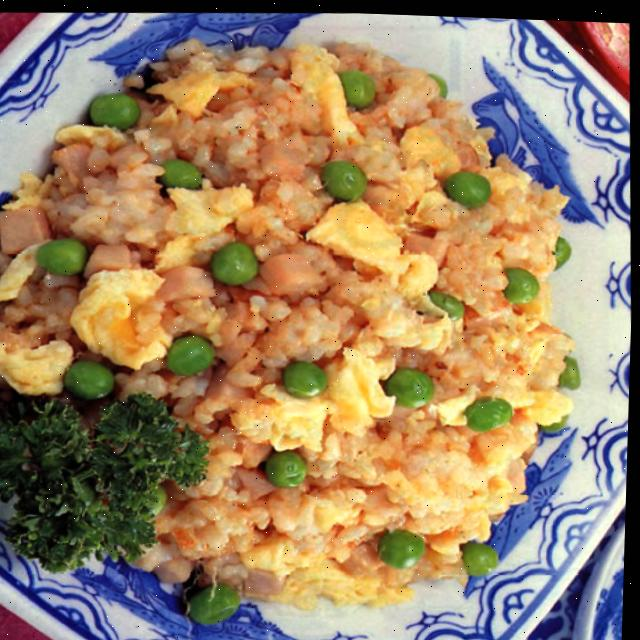米饭主食: (24, 1, 640, 640)
